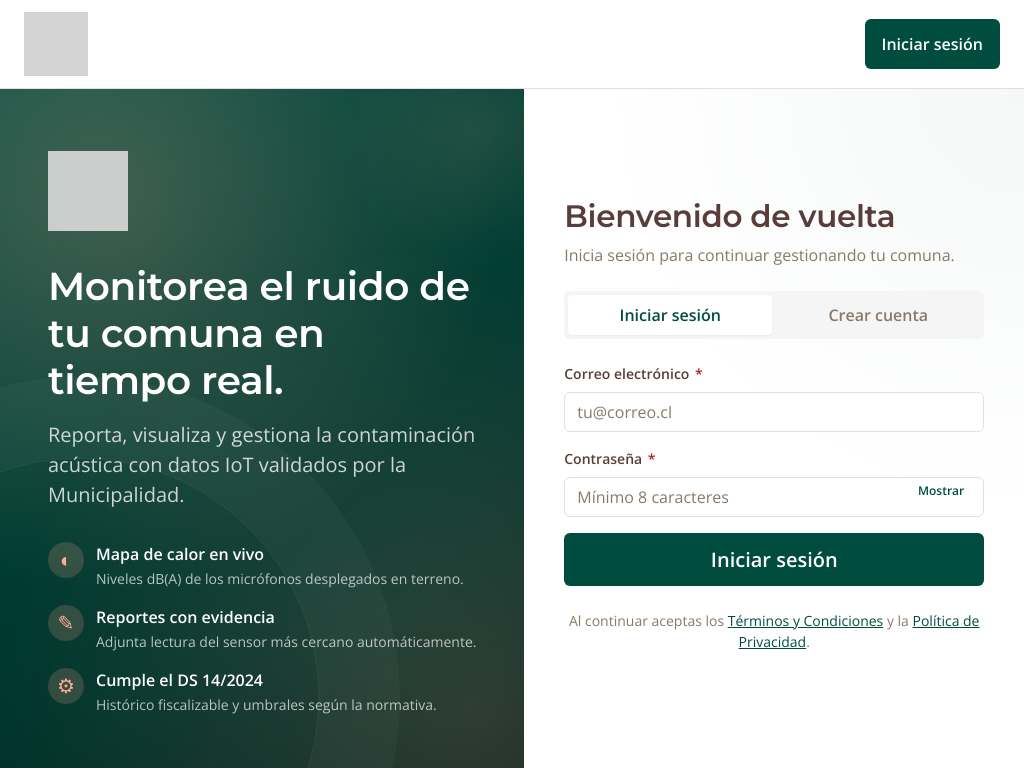
Guardas de ruta y autenticación › tab Crear cuenta muestra campo adicional de nombre
The image size is (1024, 768).
What coordinates should you click on to do the following:
click the tab "Crear cuenta"
I would click on:
 (878, 315)
Its box is [776,295,980,335].
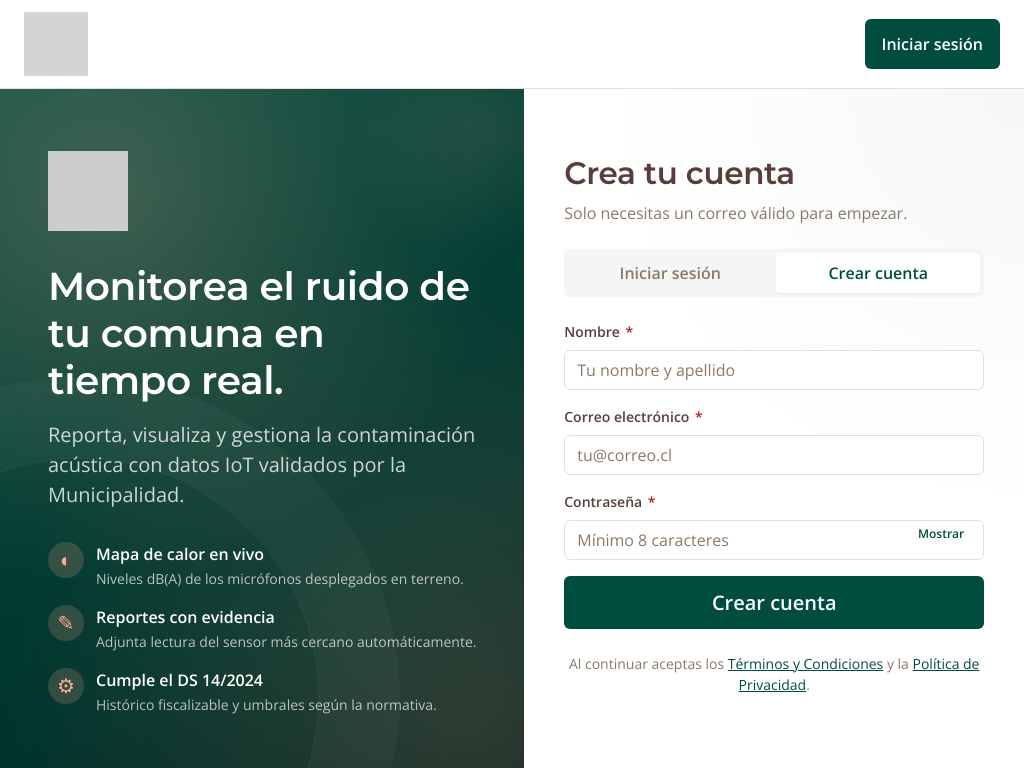
Expected: the field labelled "Nombre *" is shown, [564,350,984,390]
